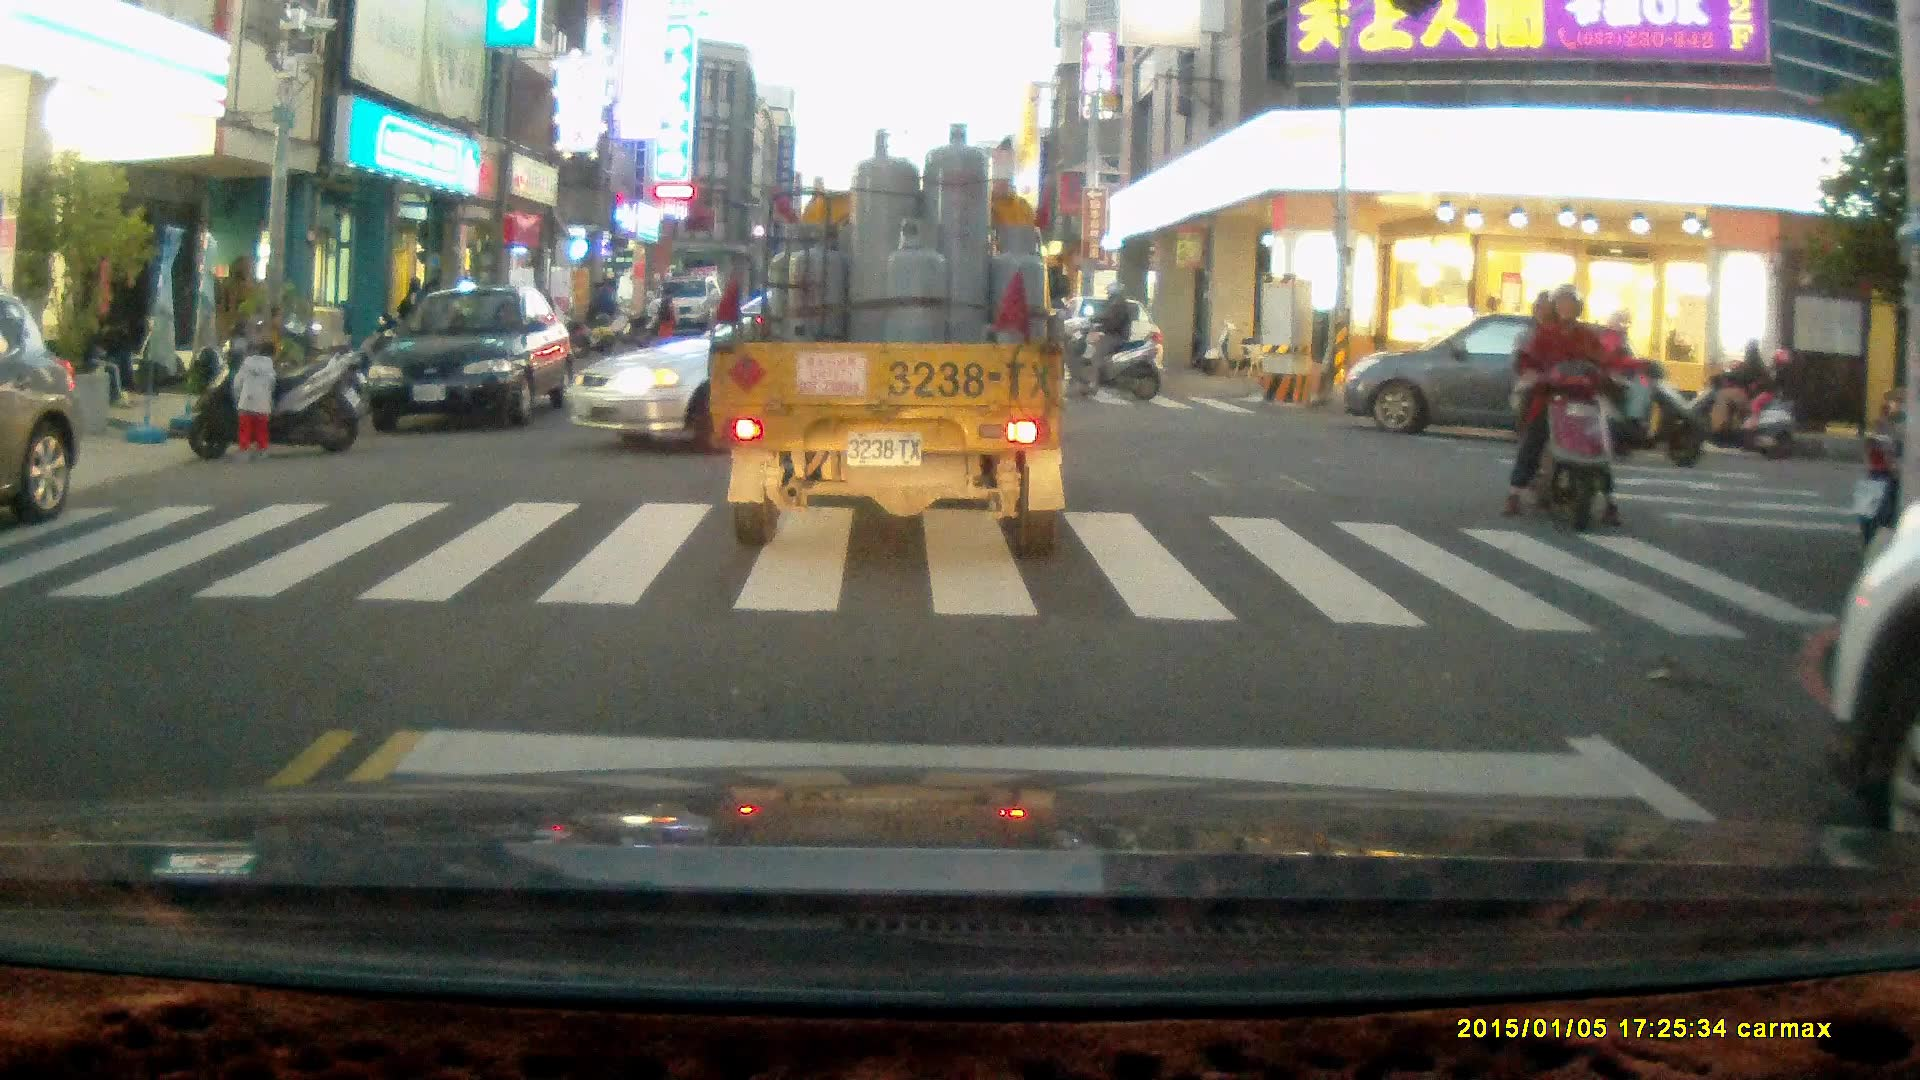pedestrian: (229, 339, 282, 464), (594, 277, 621, 339), (655, 285, 679, 343)
rider: (1498, 285, 1620, 532), (1559, 308, 1703, 463), (1679, 339, 1793, 459), (1068, 282, 1163, 403)
vehicle: (709, 122, 1068, 552), (563, 283, 1062, 448), (1334, 311, 1651, 467), (1829, 501, 1920, 900), (358, 287, 576, 435), (1066, 297, 1168, 383), (654, 278, 728, 334)
